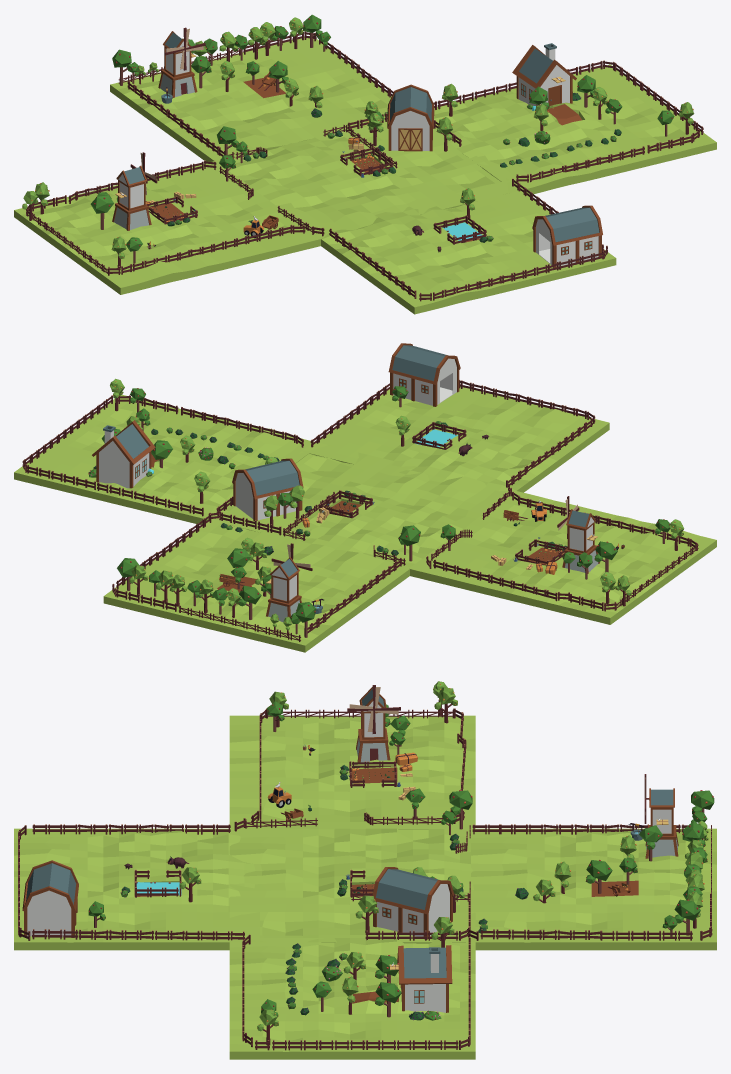
File: map.fbx
3 renders of one model, top to bottom at view 1: azimuth 30°, elevation 25°; view 2: azimuth 150°, elevation 25°; view 3: azimuth 270°, elevation 25°, orthographic. The views are drawn at different scales.
Parts seen in each view (by area): view 1: Plane.001, Plane.004, Plane.002, Plane.005, Plane.003, barn.001, house_1.001, barn.003, mill.003, mill.008, fence_4.033, fence_4.008 (+1 smaller); view 2: Plane.001, Plane.002, Plane.005, Plane.003, Plane.004, barn.001, house_1.001, barn.003, mill.008, mill.003, fence_4.033, fence_4.008 (+1 smaller); view 3: Plane.005, Plane.001, Plane.004, Plane.002, Plane.003, barn.003, barn.001, house_1.001, mill.003, mill.008, mill.004, fence_4.033.
Part boxes in pixels (<box>): Plane.001: <box>14,161,321,294</box>; Plane.004: <box>434,64,716,194</box>; Plane.002: <box>321,180,616,314</box>; Plane.005: <box>110,36,391,161</box>; Plane.003: <box>218,119,518,238</box>; barn.001: <box>532,205,602,267</box>; house_1.001: <box>512,43,576,105</box>; barn.003: <box>387,84,434,151</box>; mill.003: <box>112,165,151,230</box>; mill.008: <box>158,31,197,97</box>; fence_4.033: <box>433,215,486,244</box>; fence_4.008: <box>340,147,393,176</box>; Plane.001: <box>409,490,716,624</box>; Plane.002: <box>302,386,609,492</box>; Plane.005: <box>103,519,409,652</box>; Plane.003: <box>213,442,514,567</box>; Plane.004: <box>14,394,313,524</box>; barn.001: <box>388,343,460,406</box>; house_1.001: <box>92,420,155,488</box>; barn.003: <box>232,458,303,521</box>; mill.008: <box>266,557,301,621</box>; mill.003: <box>562,509,599,573</box>; fence_4.033: <box>412,422,466,449</box>; fence_4.008: <box>319,490,372,518</box>; Plane.005: <box>471,828,716,950</box>; Plane.001: <box>229,715,475,829</box>; Plane.004: <box>229,938,475,1059</box>; Plane.002: <box>14,828,259,950</box>; Plane.003: <box>229,828,475,943</box>; barn.003: <box>372,867,454,939</box>; barn.001: <box>22,860,78,937</box>; house_1.001: <box>397,945,452,1012</box>; mill.003: <box>356,687,390,762</box>; mill.008: <box>645,788,678,858</box>; mill.004: <box>347,685,400,733</box>; fence_4.033: <box>134,869,181,897</box>.
Bounding box in the file's own units: 9318 × 1175 × 8152.
